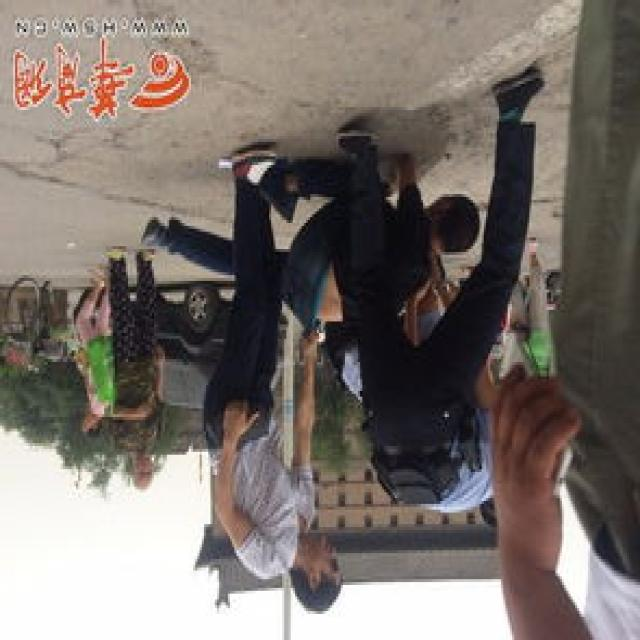nofight: (342, 87, 510, 547), (199, 128, 345, 620), (105, 248, 169, 491), (76, 269, 107, 440)
